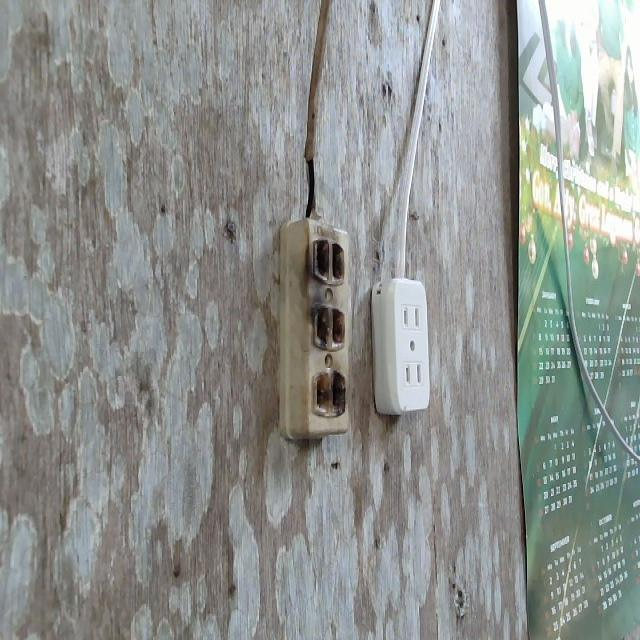-: (302, 231, 348, 421)
